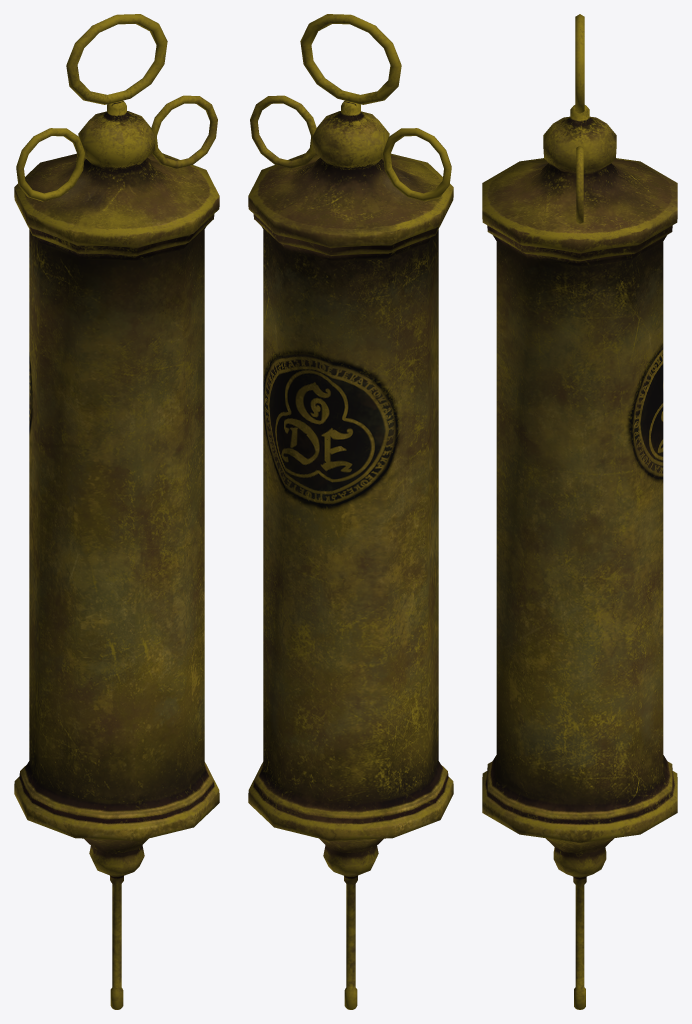
File: equip_clinic_antique_glass_syringe.glb
3 views of the same model, side by side, from view 1: azimuth 30°, elevation 25°; view 2: azimuth 150°, elevation 25°; view 3: azimuth 270°, elevation 25° (orthographic).
Parts seen in each view (by area): view 1: Cylinder001; view 2: Cylinder001; view 3: Cylinder001.
Boxes of the visible parts, <box> form: Cylinder001: <box>14,14,219,1009</box>; Cylinder001: <box>248,14,453,1009</box>; Cylinder001: <box>482,14,677,1009</box>.
Bounding box in the file's own units: 5.6 × 26.35 × 4.73.
1 material, 1 textured.
